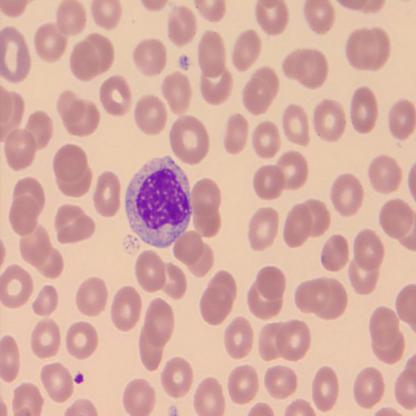Metamyelocyte: (124, 154, 193, 252)
